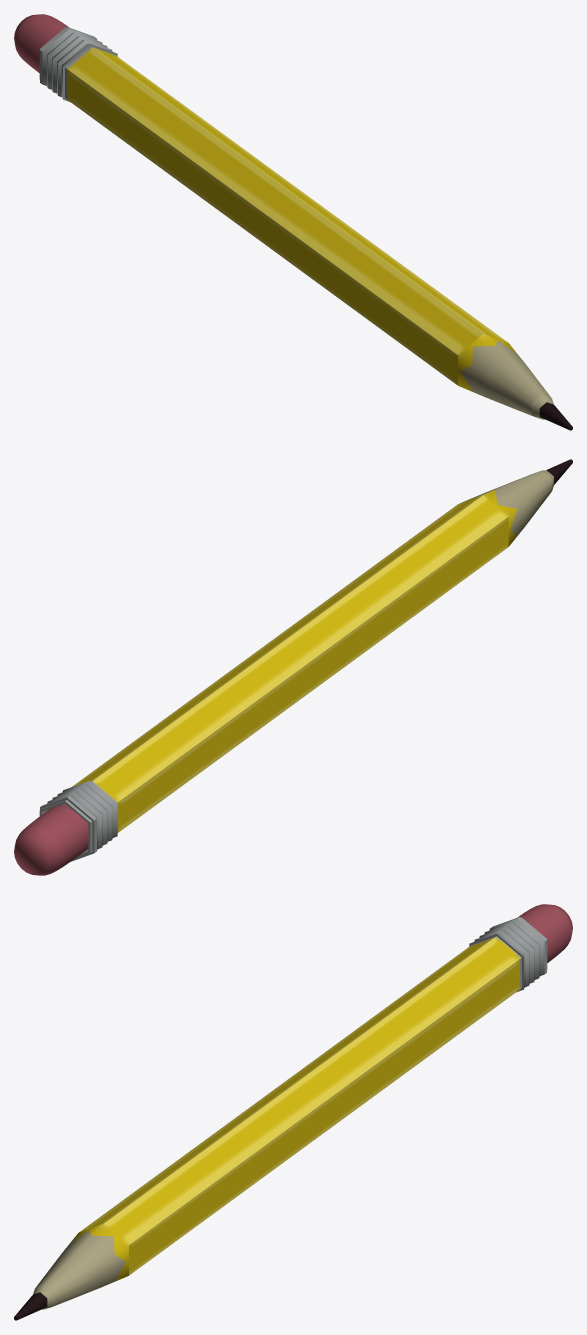
Rendered from Pencil.fbx.
3 renders of one model, top to bottom at view 1: azimuth 30°, elevation 25°; view 2: azimuth 150°, elevation 25°; view 3: azimuth 330°, elevation 25°, orthographic.
Parts seen in each view (by area): view 1: Cylinder.009; view 2: Cylinder.009; view 3: Cylinder.009.
Part boxes in pixels (x1,y1,x2,y2): Cylinder.009: (14,14,572,430); Cylinder.009: (14,459,572,875); Cylinder.009: (14,904,572,1320).
Bounding box in the file's own units: 32.78 × 37.85 × 563.
